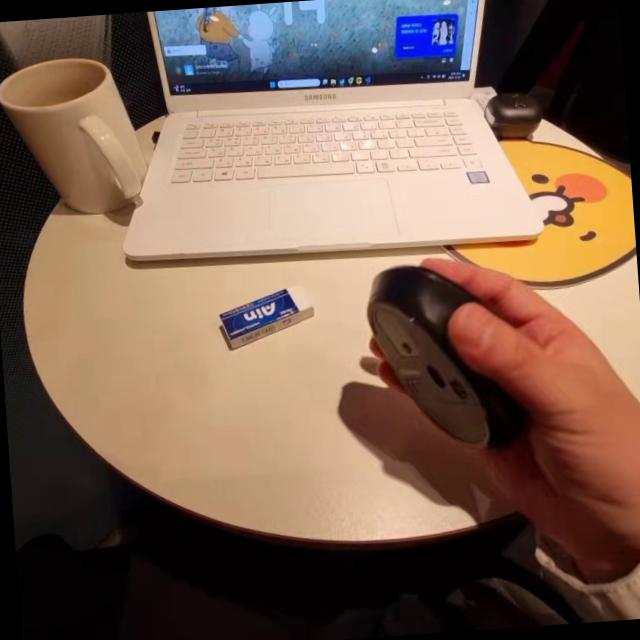eraser: (214, 278, 313, 354)
grab_mouse: (336, 225, 640, 535)
mouse: (368, 250, 532, 454)
